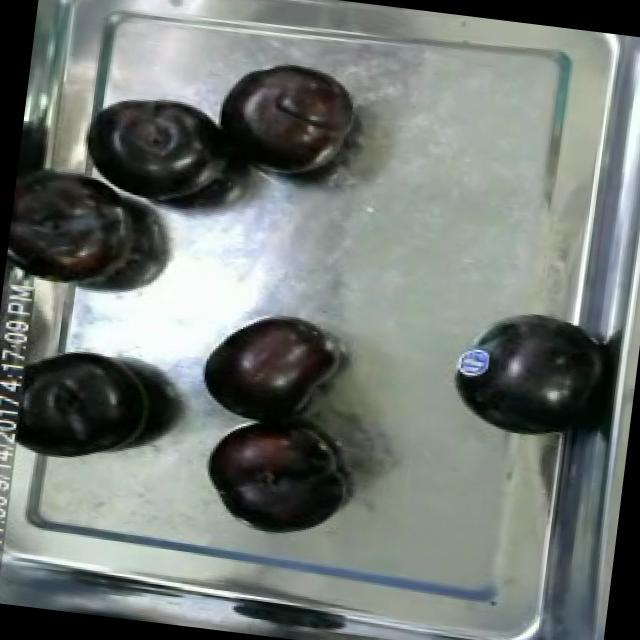Fruit: (6, 336, 166, 472), (210, 51, 366, 190), (195, 411, 354, 546), (186, 297, 343, 432), (2, 162, 126, 294), (84, 87, 226, 202), (445, 338, 497, 387)
